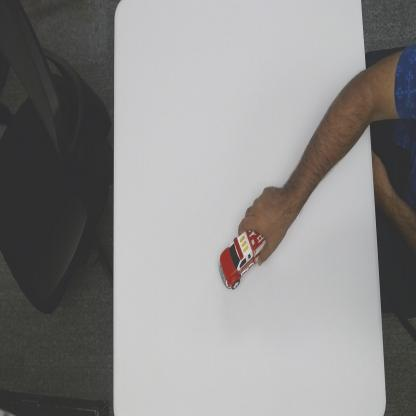Arm: (297, 52, 373, 221)
Firetruck: (216, 227, 264, 294)
Hand: (237, 182, 296, 268)
